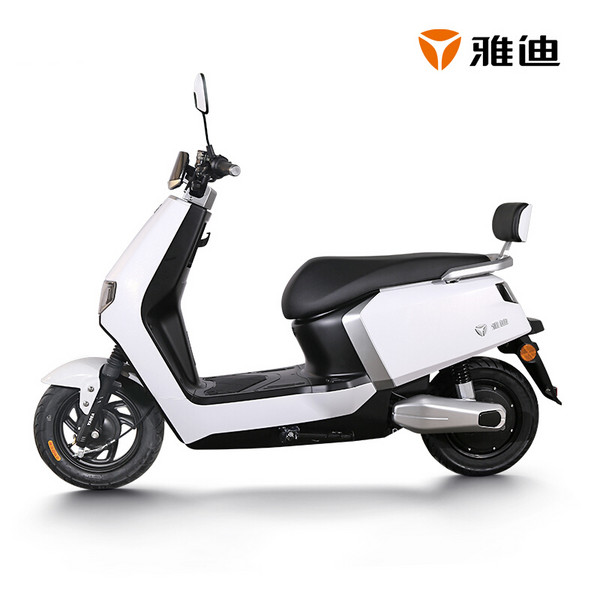MNV: (33, 72, 559, 489)
